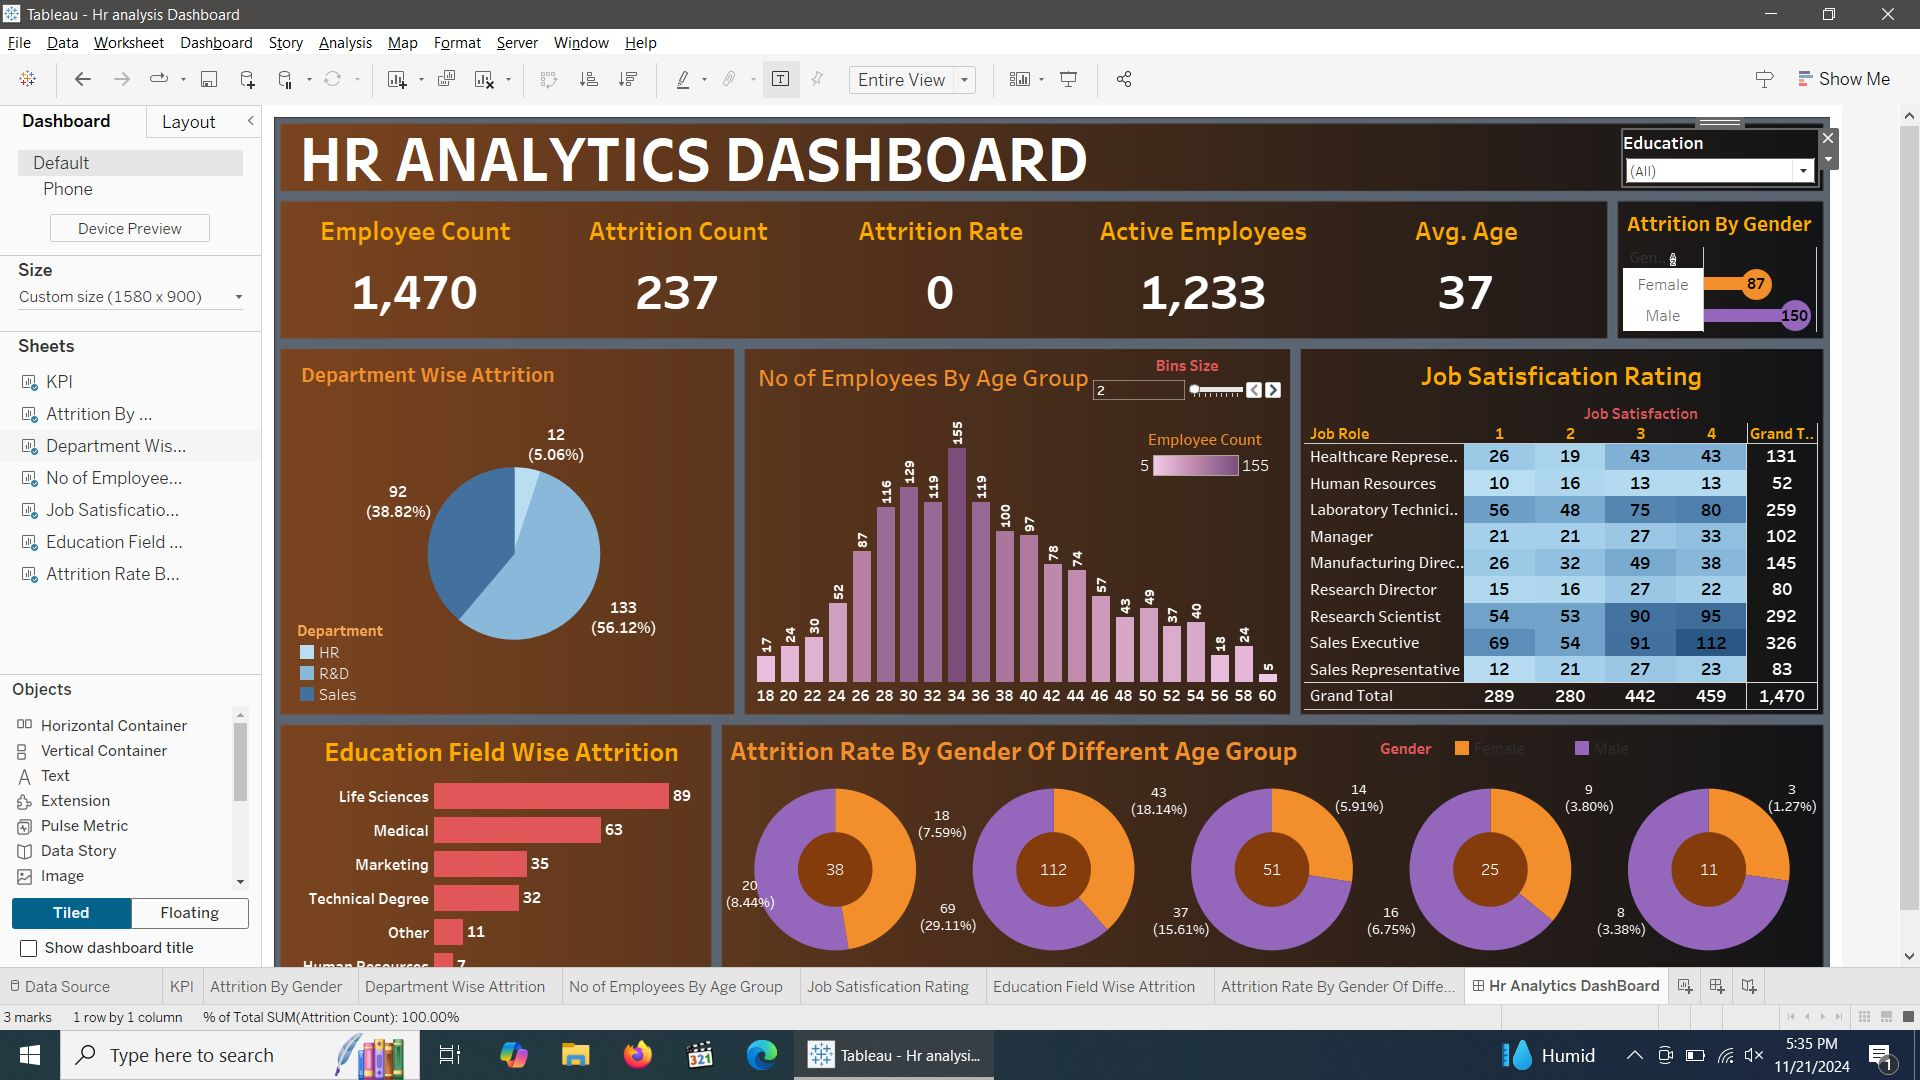

What the dashboard file says about the page in this screenshot:
{"tool":"tableau","page":{"name":"Hr Analytics DashBoard","canvas":[1580,900],"ordinal":0},"visuals":[{"type":"image","param":"F:/HR analysis project/HR background.pptx.png","box":[8,8,1564,884]},{"type":"text","box":[33.6,24,834.4,54]},{"type":"filter","title":"Department Wise Attrition","param":"[federated.0shvw6504lx2f71h8zaaj1r6lrxh].[none:Education:nk]","box":[1361,25,195,56]},{"type":"worksheet","title":"Attrition By Gender","mark":"Automatic","rows":["Gender"],"cols":["Calculation_1072138192174313472","Calculation_1072138192174313472"],"box":[1361,100,194,127]},{"type":"worksheet","title":"KPI","mark":"Automatic","box":[22,102,1314,127]},{"type":"worksheet","title":"Job Satisfication Rating","mark":"Square","rows":["Job Role"],"cols":["Job Satisfaction"],"box":[1042,249,515,356]},{"type":"parameter","param":"[Parameters].[Parameter 1]","box":[827.5,250,193.6,57]},{"type":"worksheet","title":"Department Wise Attrition","mark":"Pie","box":[34.6,251,433.5,353]},{"type":"worksheet","title":"No of Employees By Age Group","mark":"Automatic","rows":["Employee Count"],"cols":["Age (bin)"],"box":[491.8,252,526.3,350]},{"type":"legend","title":"No of Employees By Age Group","param":"[federated.0shvw6504lx2f71h8zaaj1r6lrxh].[sum:Employee Count:qk]","box":[873.9,324,138.2,56]},{"type":"legend","title":"Department Wise Attrition","param":"[federated.0shvw6504lx2f71h8zaaj1r6lrxh].[none:Department:nk]","box":[34.6,515,138.2,85]},{"type":"worksheet","title":"Attrition Rate By Gender Of Different Age Group","mark":"Pie","rows":["Calculation_412079372682133507","Calculation_412079372682133507"],"cols":["CF_age band"],"box":[464,624,1092,254]},{"type":"worksheet","title":"Education Field Wise Attrition","mark":"Automatic","rows":["Education Field"],"cols":["Calculation_1072138192174313472"],"box":[31.6,625,414.8,253]},{"type":"legend","title":"Attrition Rate By Gender Of Different Age Group","param":"[federated.0shvw6504lx2f71h8zaaj1r6lrxh].[none:Gender:nk]","box":[1118,633,417,33]}]}

Visuals, with their boxes on the page's 1580x900 design canvas (x1, y1, x2, y2). These are canvas units, not pixel positions in the 1920x1080 screenshot, which may show the page scaled, cropped or inside an application window:
image: [left=8, top=8, right=1572, bottom=892]
text: [left=34, top=24, right=868, bottom=78]
"Department Wise Attrition" filter: [left=1361, top=25, right=1556, bottom=81]
"Attrition By Gender" worksheet: [left=1361, top=100, right=1555, bottom=227]
"KPI" worksheet: [left=22, top=102, right=1336, bottom=229]
"Job Satisfication Rating" worksheet (Square marks): [left=1042, top=249, right=1557, bottom=605]
parameter: [left=828, top=250, right=1021, bottom=307]
"Department Wise Attrition" worksheet (Pie marks): [left=35, top=251, right=468, bottom=604]
"No of Employees By Age Group" worksheet: [left=492, top=252, right=1018, bottom=602]
"No of Employees By Age Group" legend: [left=874, top=324, right=1012, bottom=380]
"Department Wise Attrition" legend: [left=35, top=515, right=173, bottom=600]
"Attrition Rate By Gender Of Different Age Group" worksheet (Pie marks): [left=464, top=624, right=1556, bottom=878]
"Education Field Wise Attrition" worksheet: [left=32, top=625, right=446, bottom=878]
"Attrition Rate By Gender Of Different Age Group" legend: [left=1118, top=633, right=1535, bottom=666]
